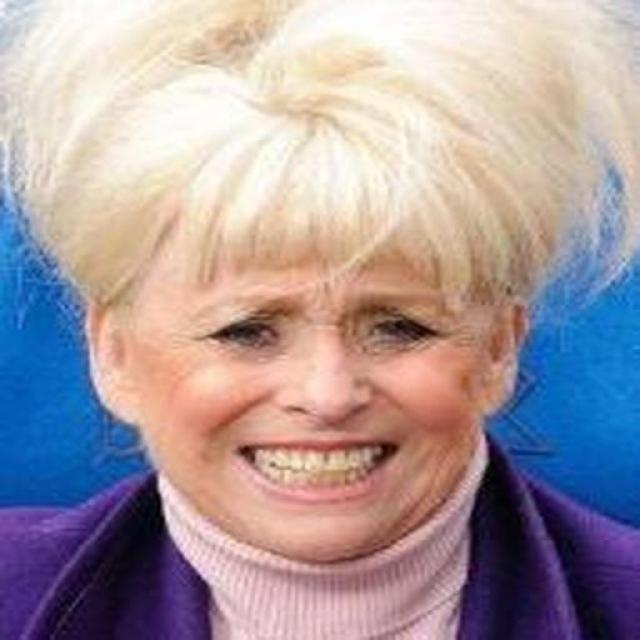bareface: (159, 238, 462, 542)
